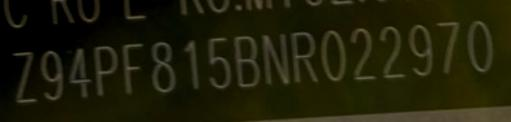letter: (463, 17, 496, 76), (202, 34, 234, 92), (288, 30, 321, 86), (431, 17, 461, 77), (230, 32, 261, 90), (259, 31, 291, 87), (148, 38, 179, 95), (406, 21, 436, 77), (378, 21, 406, 81), (9, 48, 39, 103), (318, 29, 349, 82), (65, 43, 93, 100), (347, 27, 377, 80), (91, 43, 121, 96), (118, 39, 144, 98), (38, 48, 65, 101), (182, 37, 200, 93)
